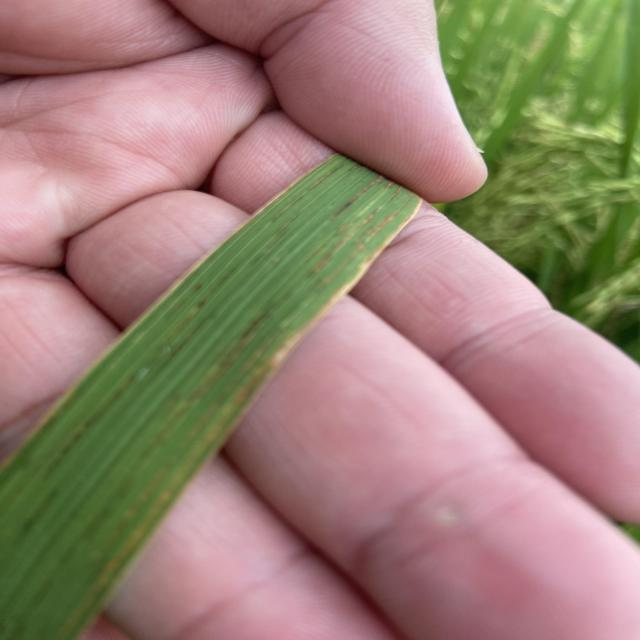Dom soc vi khuan: (165, 303, 272, 429), (306, 211, 374, 276), (328, 174, 385, 220), (354, 215, 393, 250)
